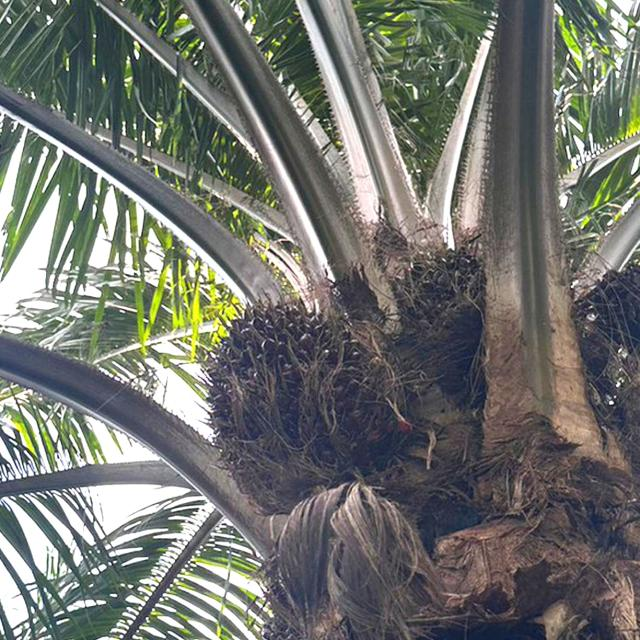unripe: (191, 293, 406, 524), (358, 232, 514, 429)
